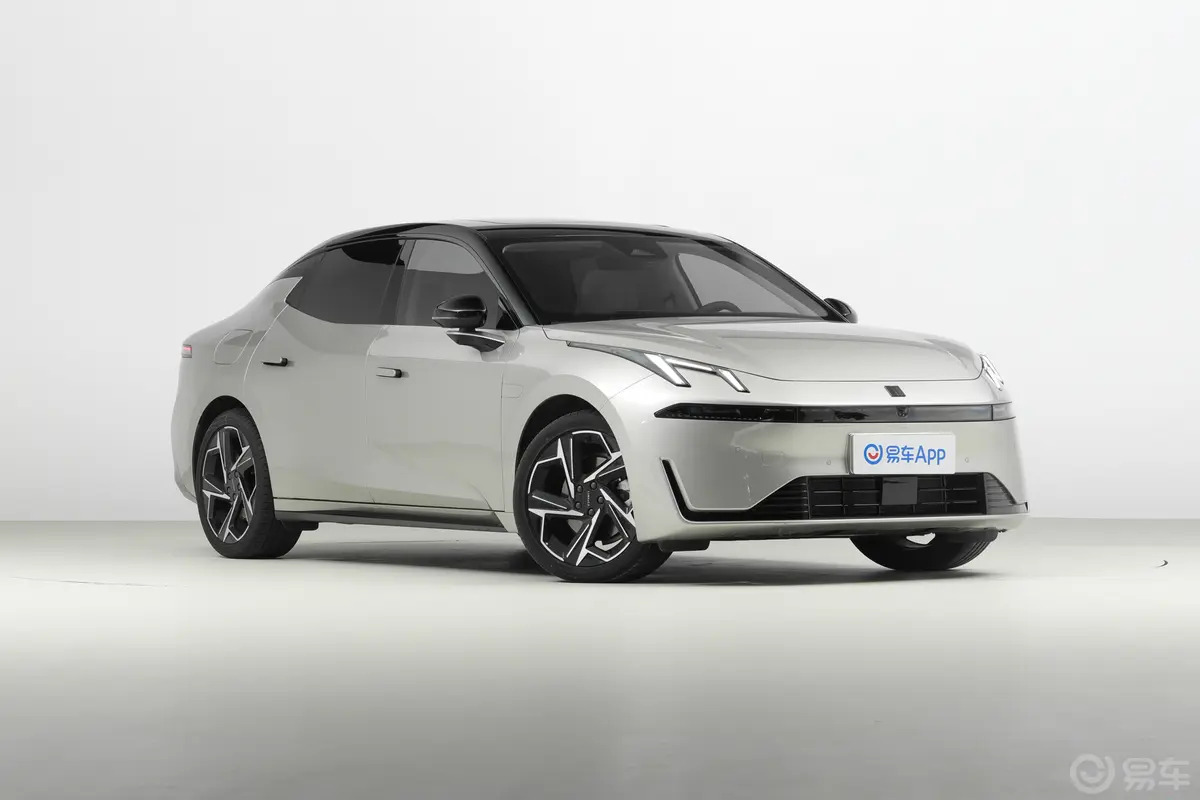LINK&CO: (886, 386, 905, 397)
